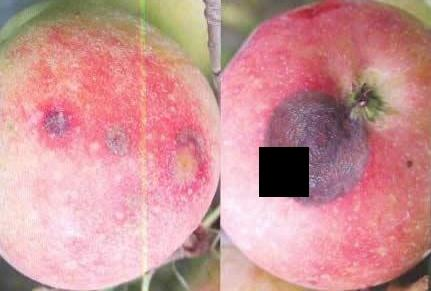rotten apple: (3, 5, 217, 289), (221, 4, 431, 288)
